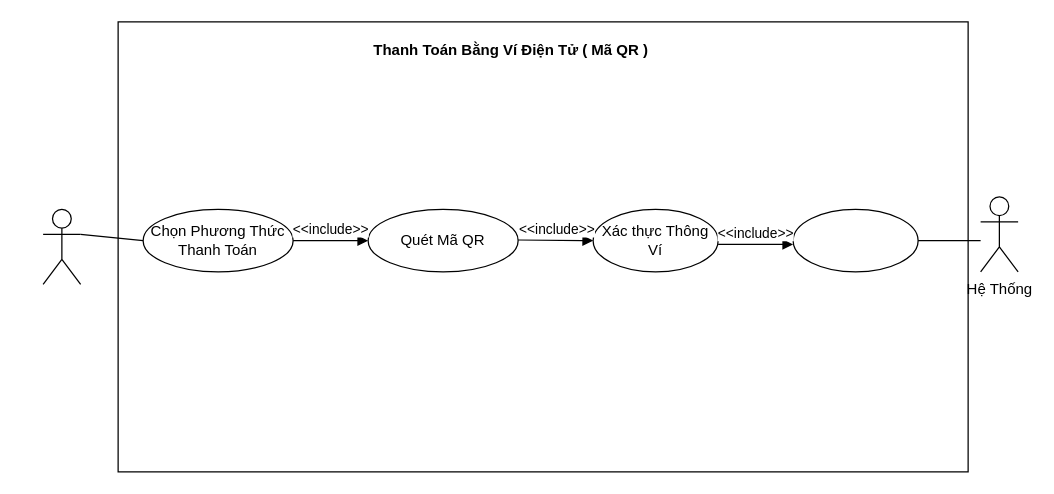
This 1054x494 diagram has some shape labels left out. Here are the shapes that lost their labels. From the top down, the centre of each, then its label:
(x=61, y=246): Người dùng
(x=855, y=240): Thanh Toán
